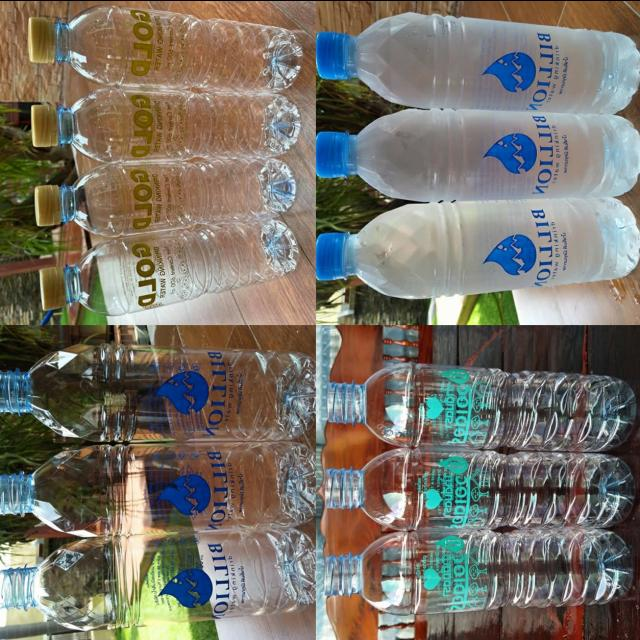plastik: (316, 11, 640, 112), (316, 198, 640, 297), (0, 528, 315, 629), (0, 343, 315, 440), (0, 440, 315, 536), (316, 108, 640, 200), (327, 362, 636, 450), (325, 528, 634, 614), (324, 447, 635, 530), (40, 218, 298, 315), (29, 4, 303, 91), (35, 158, 297, 236), (31, 87, 301, 162)
